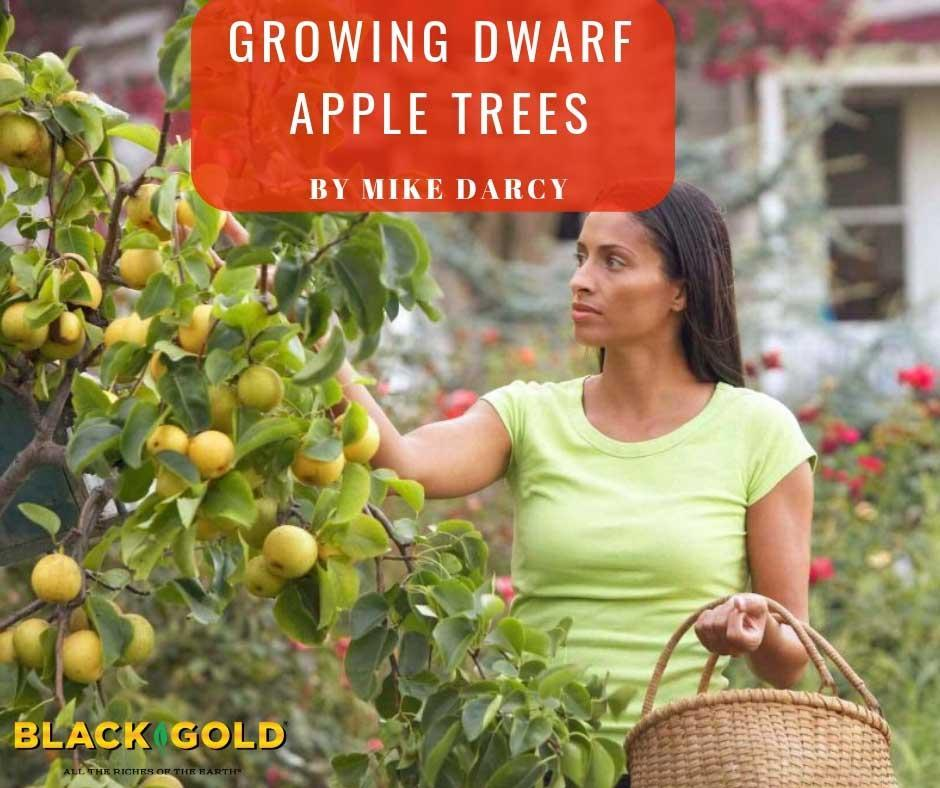apple: (125, 182, 190, 248), (290, 422, 347, 489), (259, 524, 317, 579), (2, 112, 52, 171), (30, 551, 84, 603), (16, 613, 58, 670), (62, 628, 105, 683), (236, 364, 284, 413), (103, 308, 150, 352), (179, 307, 223, 352), (116, 607, 154, 659), (192, 428, 230, 479), (4, 303, 46, 349), (113, 248, 163, 284), (148, 423, 187, 461), (345, 416, 377, 461)
